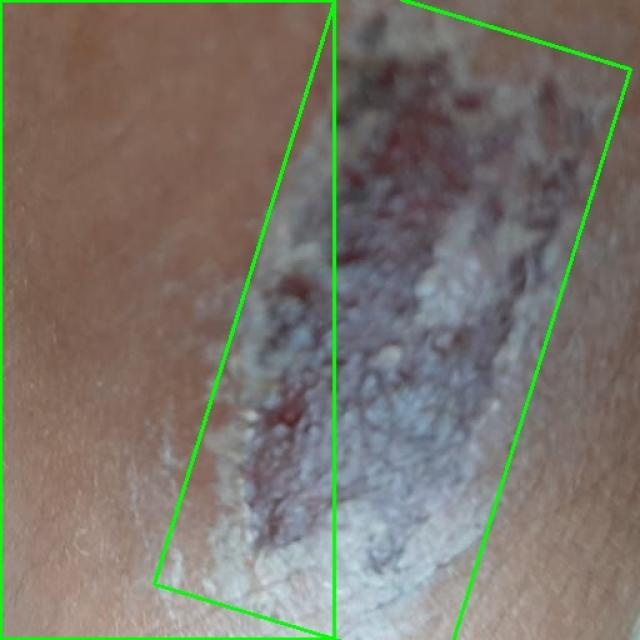Atopic Dermatitis: (155, 0, 630, 640), (0, 0, 334, 639)
